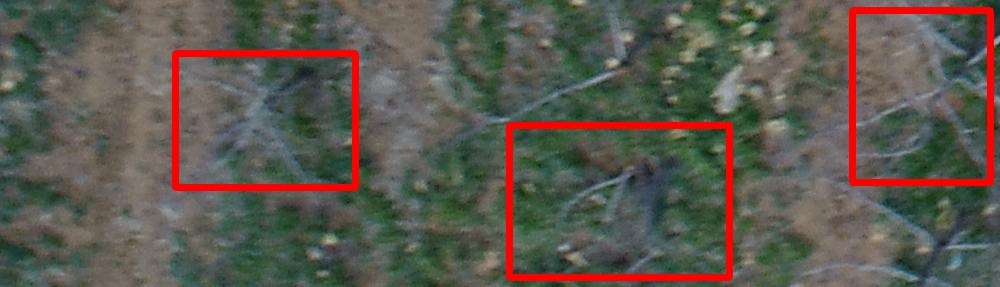apple: (509, 125, 729, 277), (175, 53, 355, 187), (852, 10, 990, 182)
